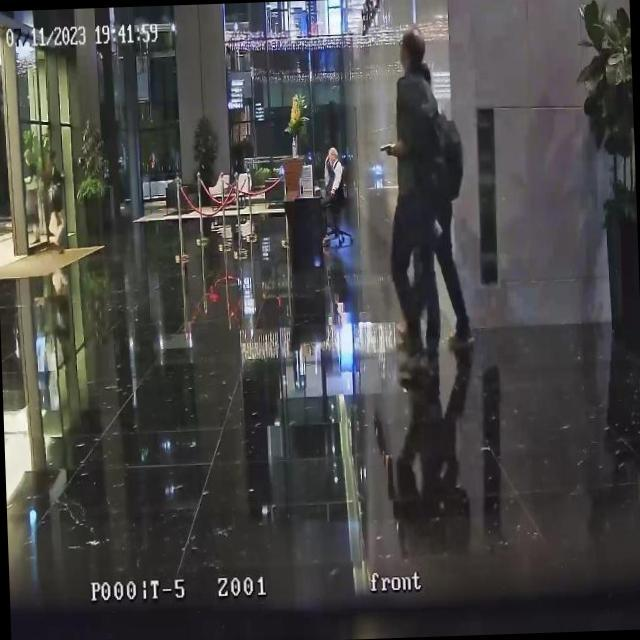person: (384, 25, 475, 357), (381, 24, 447, 356), (403, 59, 475, 353), (41, 150, 68, 256), (22, 146, 39, 242), (322, 145, 346, 200)
